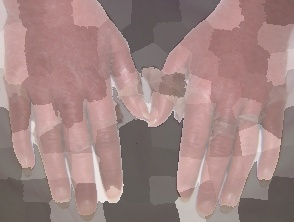SJS-TEN: (0, 0, 152, 222), (143, 0, 294, 222)
